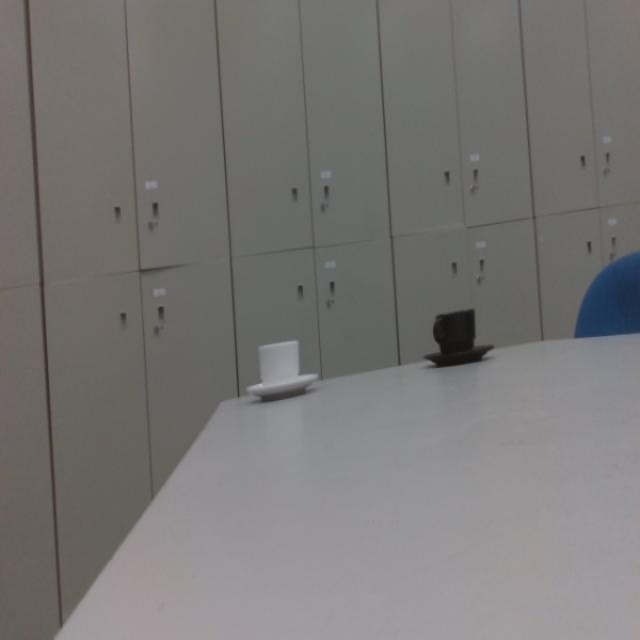black: (423, 305, 495, 369)
white: (244, 337, 320, 406)
